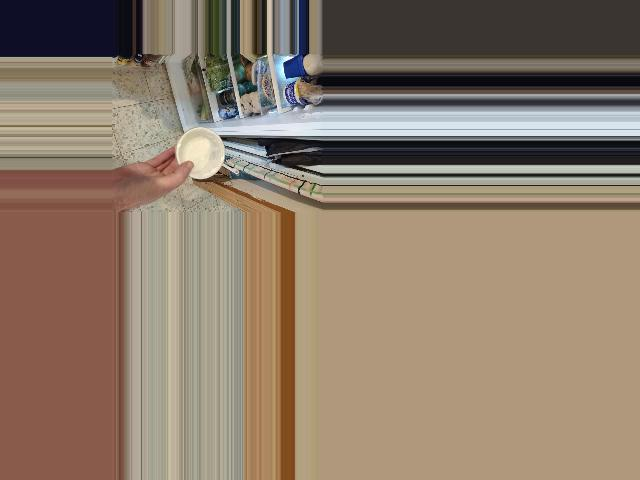cotage: (178, 128, 224, 176)
